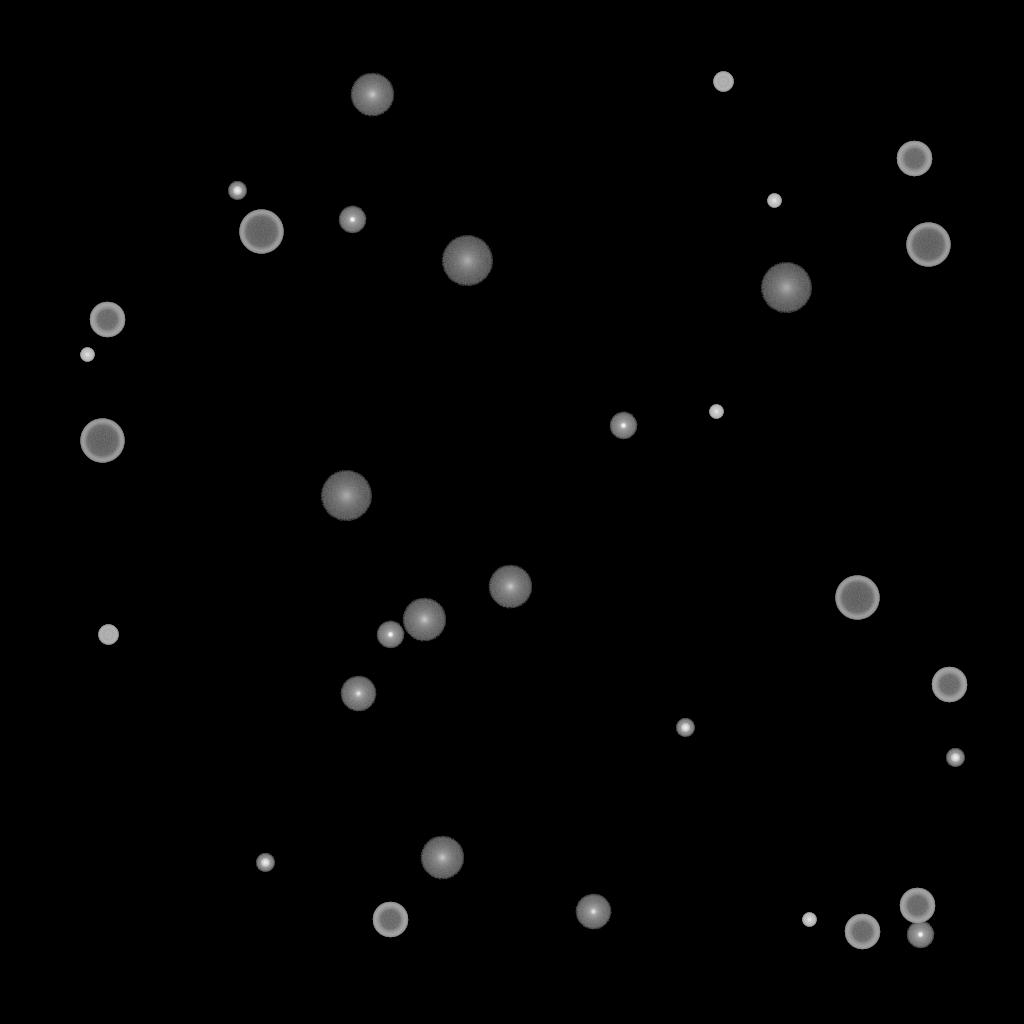depth:-10: (906, 921, 934, 949), (609, 412, 637, 440), (376, 621, 404, 649), (338, 206, 366, 234)
depth:-20: (946, 749, 964, 767), (676, 719, 694, 737), (228, 182, 246, 200), (256, 854, 274, 872)
depth:-30: (709, 405, 723, 419), (802, 913, 816, 927), (767, 194, 781, 208), (80, 348, 94, 362)
depth:-40: (713, 72, 733, 92), (98, 625, 118, 645)
depth:-60: (896, 141, 932, 177), (89, 302, 125, 338), (931, 667, 967, 703), (844, 914, 880, 950), (899, 888, 935, 924), (372, 902, 408, 938)
depth:-70: (239, 210, 283, 254), (835, 576, 879, 620), (906, 223, 950, 267), (80, 419, 124, 463)
depth:0: (340, 676, 376, 712), (575, 894, 611, 930)
depth:10: (350, 73, 394, 117), (488, 565, 532, 609), (402, 598, 446, 642), (420, 836, 464, 880)
depth:20: (320, 471, 372, 521), (441, 236, 493, 286), (760, 263, 812, 313)
